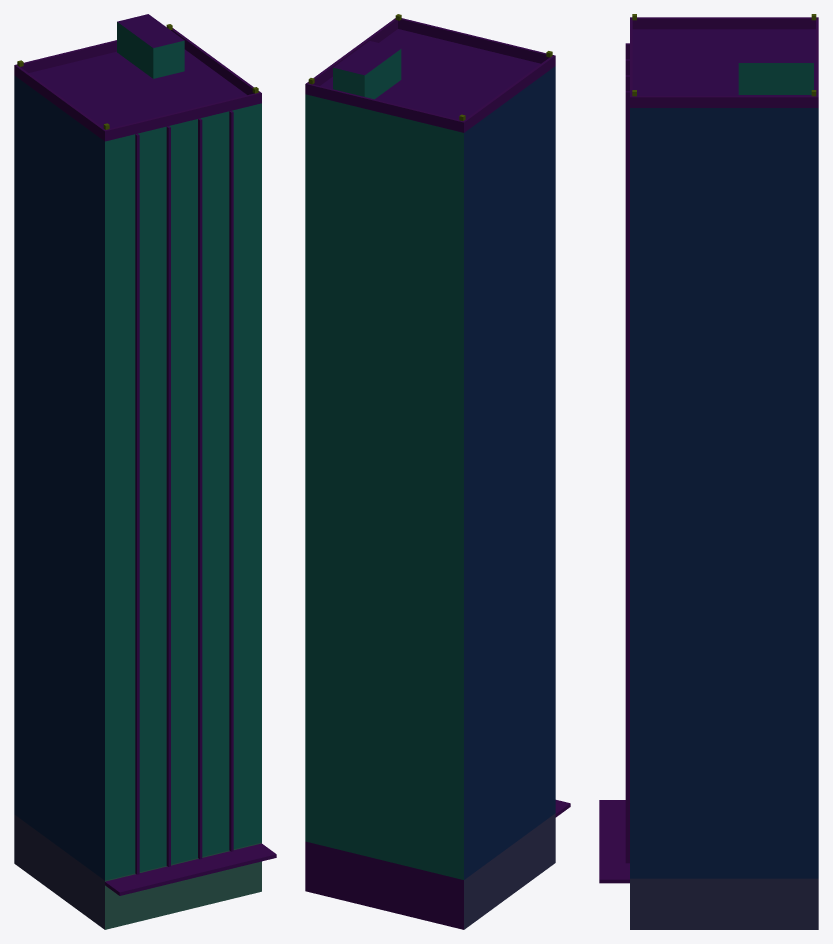
Rendered from slab_g.lod2.glb.
The picture shows the model from 3 angles, left to right: view 1: azimuth 30°, elevation 25°; view 2: azimuth 150°, elevation 25°; view 3: azimuth 270°, elevation 25°; orthographic projection. The views are drawn at different scales.
Visible parts, largest first — view 1: slab_g.lod2; view 2: slab_g.lod2; view 3: slab_g.lod2.
Part boxes in pixels (bbox=[...]): slab_g.lod2: bbox=[14, 14, 276, 929]; slab_g.lod2: bbox=[305, 14, 570, 929]; slab_g.lod2: bbox=[599, 14, 818, 929].
Size of the model in its own units: 16 by 79.8 by 18.6.
